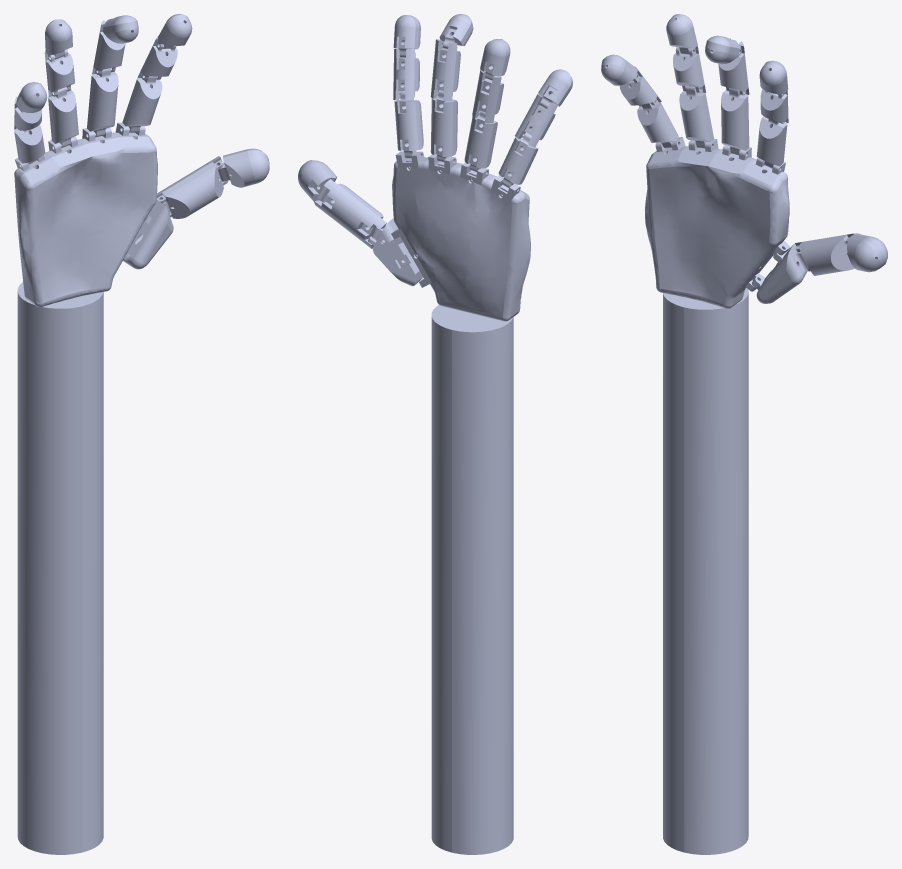
Rendered from result-transformed.glb.
The picture shows the model from 3 angles, left to right: view 1: azimuth 30°, elevation 25°; view 2: azimuth 150°, elevation 25°; view 3: azimuth 330°, elevation 25°; orthographic projection. The views are drawn at different scales.
Parts seen in each view (by area): view 1: nodes[0]; view 2: nodes[0]; view 3: nodes[0].
Part boxes in pixels (x1,y1,x2,y2): nodes[0]: (14,14,269,854); nodes[0]: (298,14,572,854); nodes[0]: (601,14,887,854).
Bounding box in the file's own units: 178 × 532 × 70.63.
